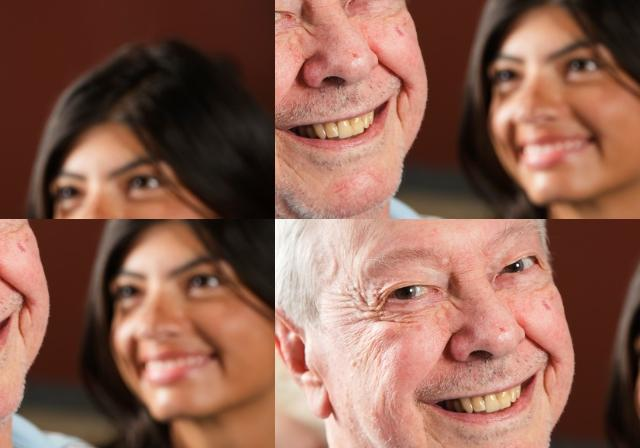chin: (425, 427, 452, 448)
crows_feet: (349, 293, 379, 327)
forehead: (354, 85, 496, 131), (352, 56, 478, 102), (0, 185, 28, 218)
frown_line: (396, 146, 434, 206), (365, 172, 403, 212)
gummy_smile: (525, 328, 559, 360), (52, 239, 78, 275)
sad_smile: (534, 366, 558, 402), (62, 290, 78, 334)
smoker_lines: (1, 277, 43, 289)
